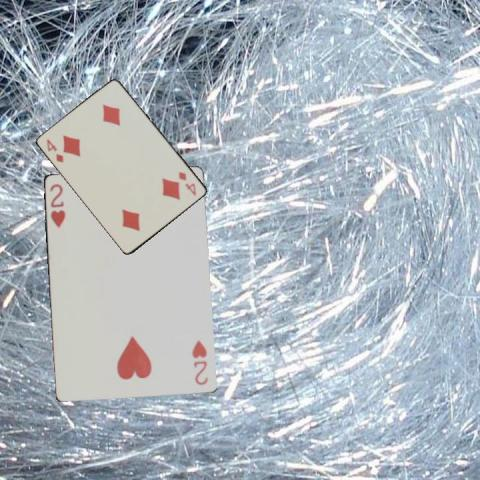2h: (46, 180, 67, 228), (188, 337, 208, 386)
4d: (176, 169, 198, 197), (44, 135, 65, 164)
